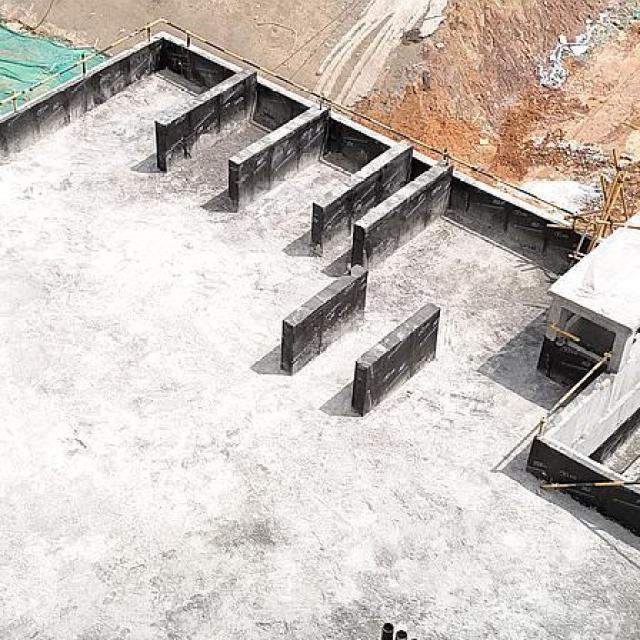edge_guardrail: (0, 15, 584, 230), (488, 322, 613, 472), (540, 479, 640, 488)
